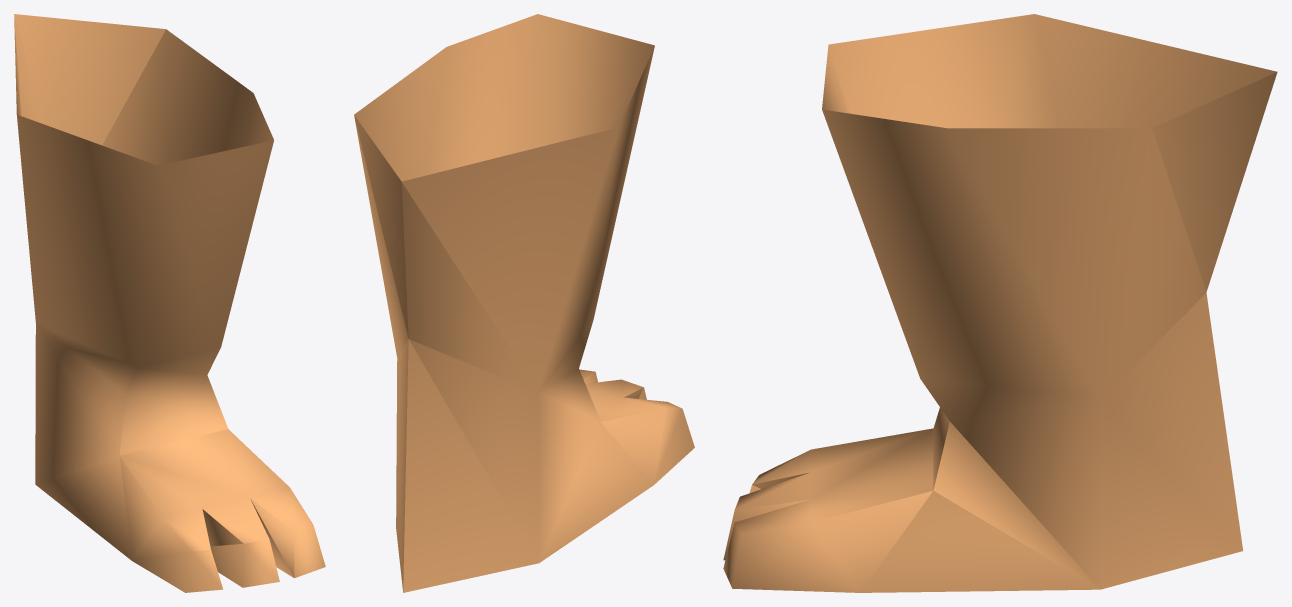
Rendered from pieIzq.obj.
3 renders of one model, left to right at view 1: azimuth 30°, elevation 25°; view 2: azimuth 150°, elevation 25°; view 3: azimuth 270°, elevation 25°, orthographic. The views are drawn at different scales.
Visible parts, largest first — view 1: polySurface2; view 2: polySurface2; view 3: polySurface2.
Boxes of the visible parts, left/top/right/bottom form: polySurface2: left=14, top=14, right=325, bottom=592; polySurface2: left=354, top=14, right=694, bottom=592; polySurface2: left=723, top=14, right=1277, bottom=592.
Bounding box in the file's own units: 1.13 × 2.18 × 2.32.
1 material, 1 textured.
